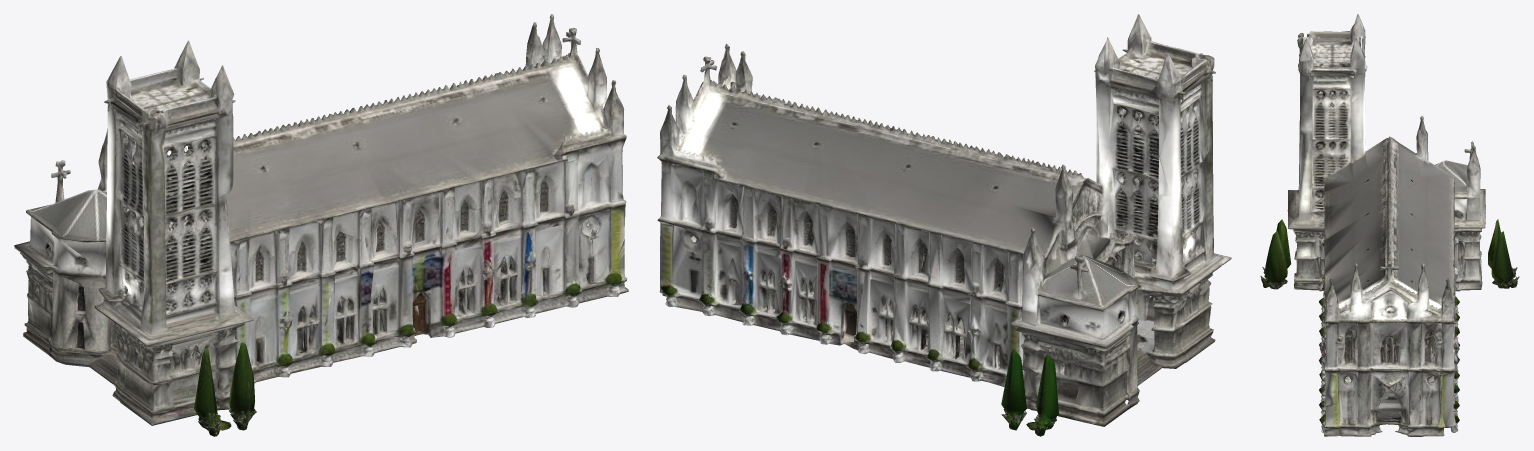
Rendered from nhatho.glb.
3 renders of one model, left to right at view 1: azimuth 30°, elevation 25°; view 2: azimuth 150°, elevation 25°; view 3: azimuth 270°, elevation 25°, orthographic. The views are drawn at different scales.
Visible parts, largest first — view 1: Mesh_0; view 2: Mesh_0; view 3: Mesh_0.
Boxes of the visible parts, x1,y1,x2,y2 form: Mesh_0: (14,14,628,436); Mesh_0: (657,14,1231,436); Mesh_0: (1260,14,1519,436).
Size of the model in its own units: 1.91 by 1.24 by 1.14.
Materials: 1 (1 with a texture image).
